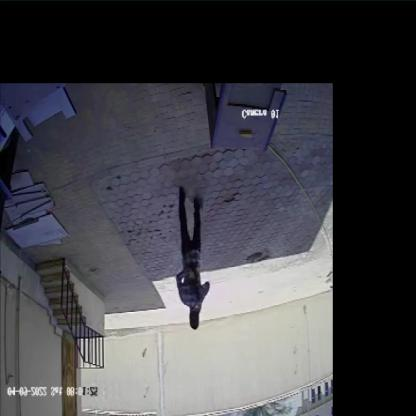handgun: (185, 258, 205, 306)
